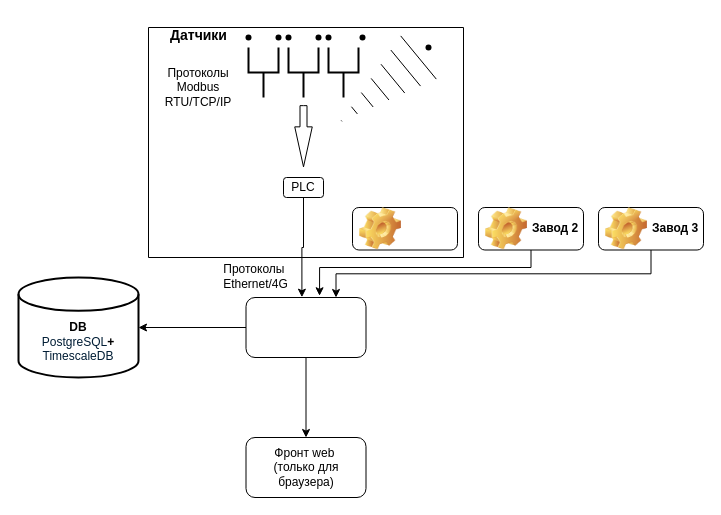
Some shapes in this 721 by 515 pixel diagram are drawn without their labels. The centre of each missing label's shape, as x and y in pixels:
Завод 1: (405,228)
Сервер IIoT платформы: (305,327)
